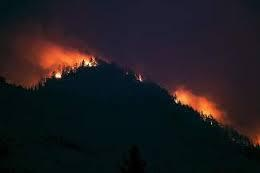fire: (172, 86, 225, 121), (45, 49, 97, 75)
